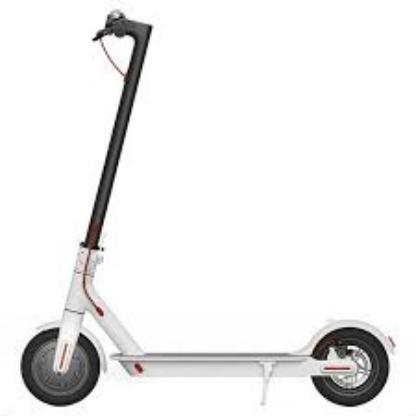bike: (19, 7, 414, 413)
